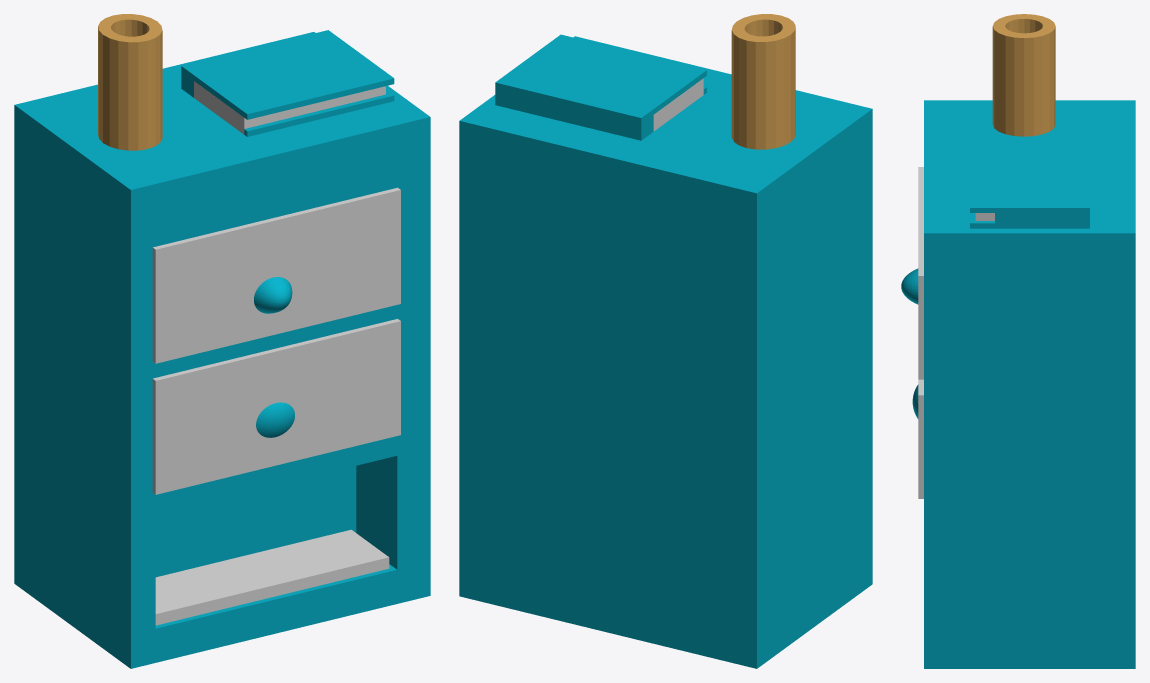
The model's file is Tremendous Crift.glb.
3 views of the same model, side by side, from view 1: azimuth 30°, elevation 25°; view 2: azimuth 150°, elevation 25°; view 3: azimuth 270°, elevation 25° (orthographic). The views are drawn at different scales.
Visible parts, largest first — view 1: Mesh_Mesh_head_geo.001_lambert2SG.001; view 2: Mesh_Mesh_head_geo.001_lambert2SG.001; view 3: Mesh_Mesh_head_geo.001_lambert2SG.001.
Part boxes in pixels (box(x1,y1,x2,y2)): Mesh_Mesh_head_geo.001_lambert2SG.001: box(14, 14, 430, 668); Mesh_Mesh_head_geo.001_lambert2SG.001: box(459, 14, 872, 668); Mesh_Mesh_head_geo.001_lambert2SG.001: box(901, 14, 1135, 668).
Size of the model in its own units: 55 by 103 by 41.
